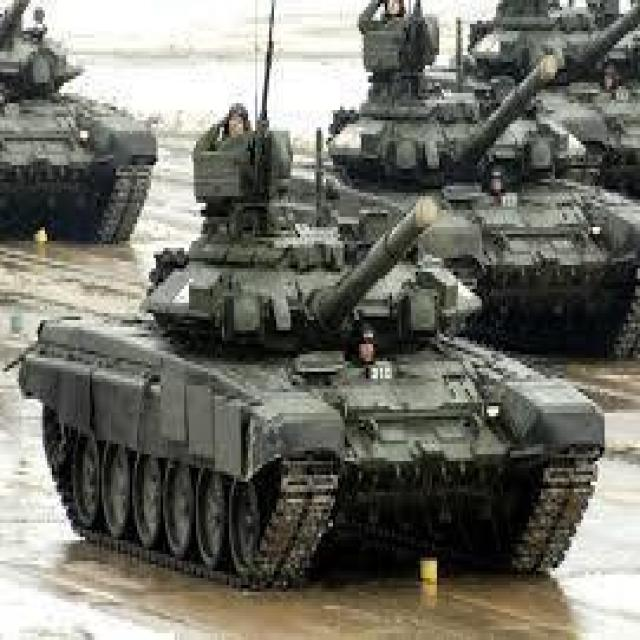Tanks: (28, 115, 607, 590), (416, 108, 624, 350), (308, 2, 478, 184), (8, 50, 166, 222), (478, 10, 613, 203)
